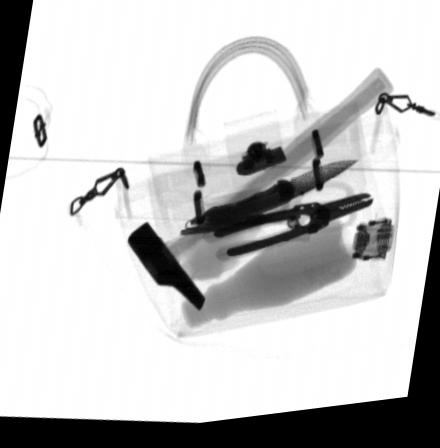Hammer: (125, 75, 395, 315)
Knife: (195, 166, 361, 236)
Pliers: (204, 200, 373, 266)
Scissors: (175, 153, 360, 242)
